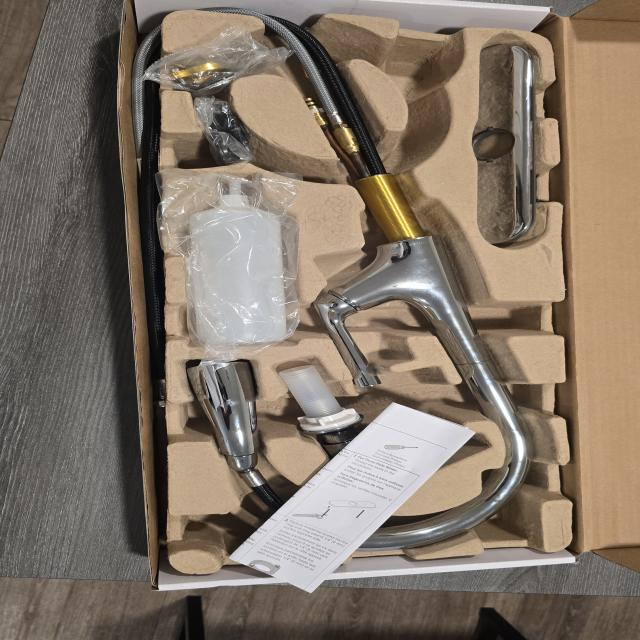1o: (192, 18, 530, 552)
2o: (281, 365, 470, 488)
3: (189, 178, 291, 345)
4: (472, 45, 540, 246)
5m: (385, 52, 440, 97)
6: (145, 27, 290, 93)
7: (192, 99, 254, 163)
8: (223, 402, 477, 594)
